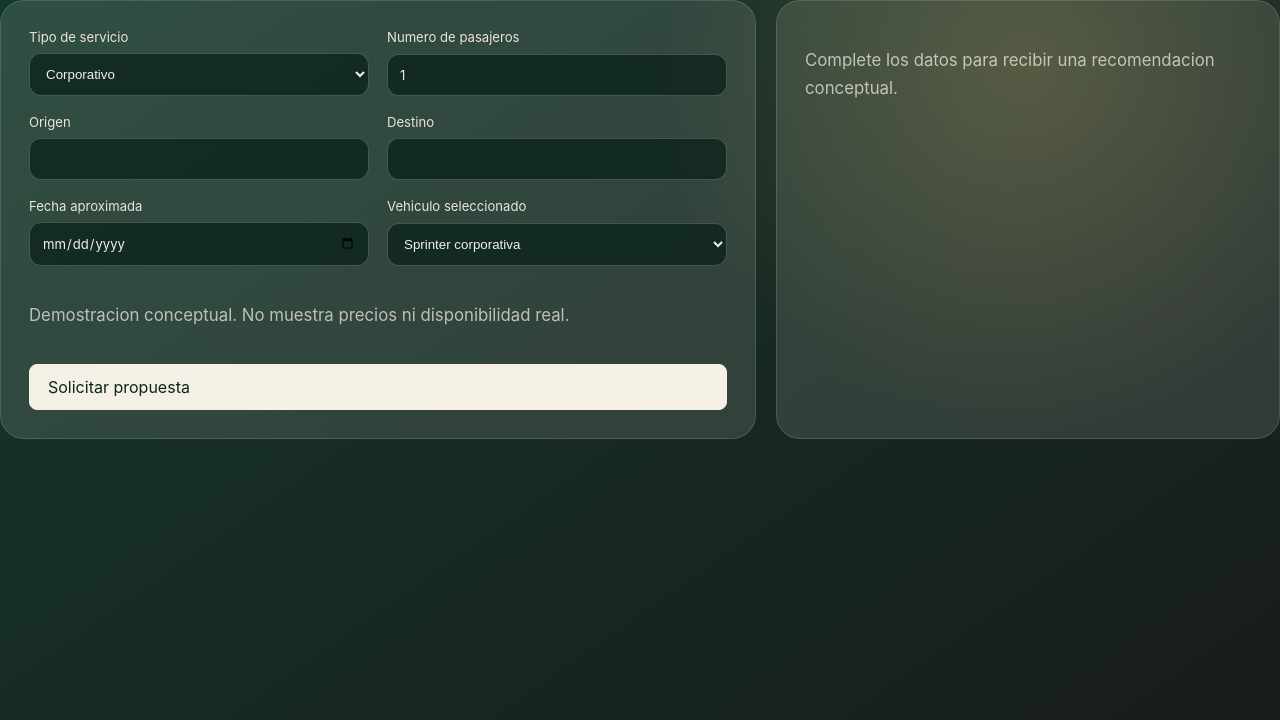
Test: QuoteSection › shows a recommendation and summary without a price
Replace the text in the number field labelled "Numero de pasajeros" with "45" at {"x": 557, "y": 75}, box x1=387 y1=54 x2=727 y2=96
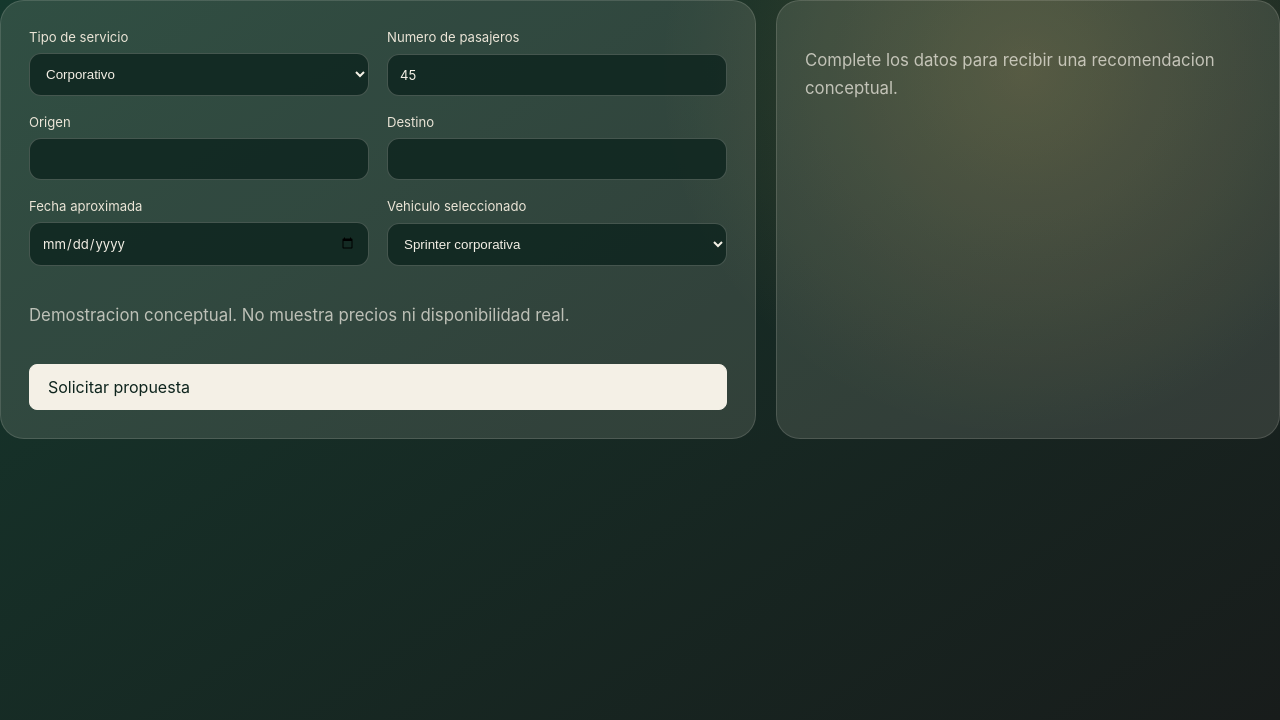
Type "Monteria" into the field labelled "Origen" at {"x": 199, "y": 159}, box x1=29 y1=138 x2=369 y2=180
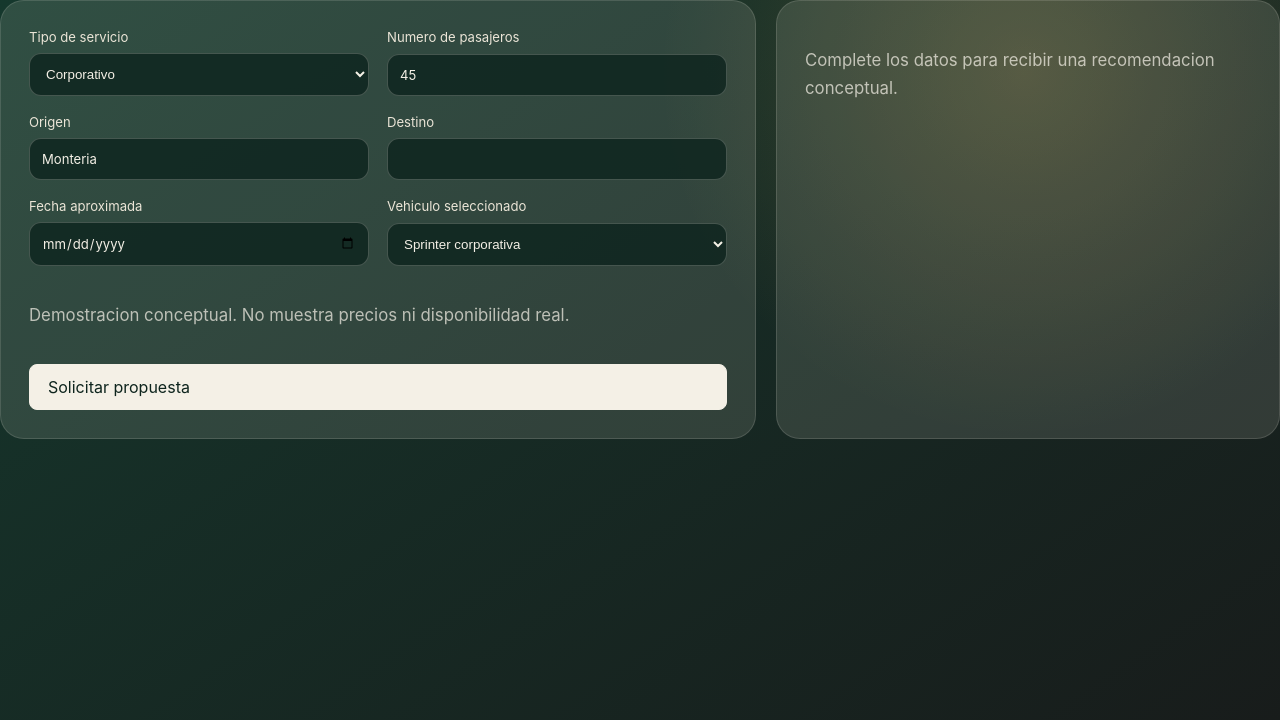
Type "Cartagena" into the field labelled "Destino" at {"x": 557, "y": 159}, box x1=387 y1=138 x2=727 y2=180
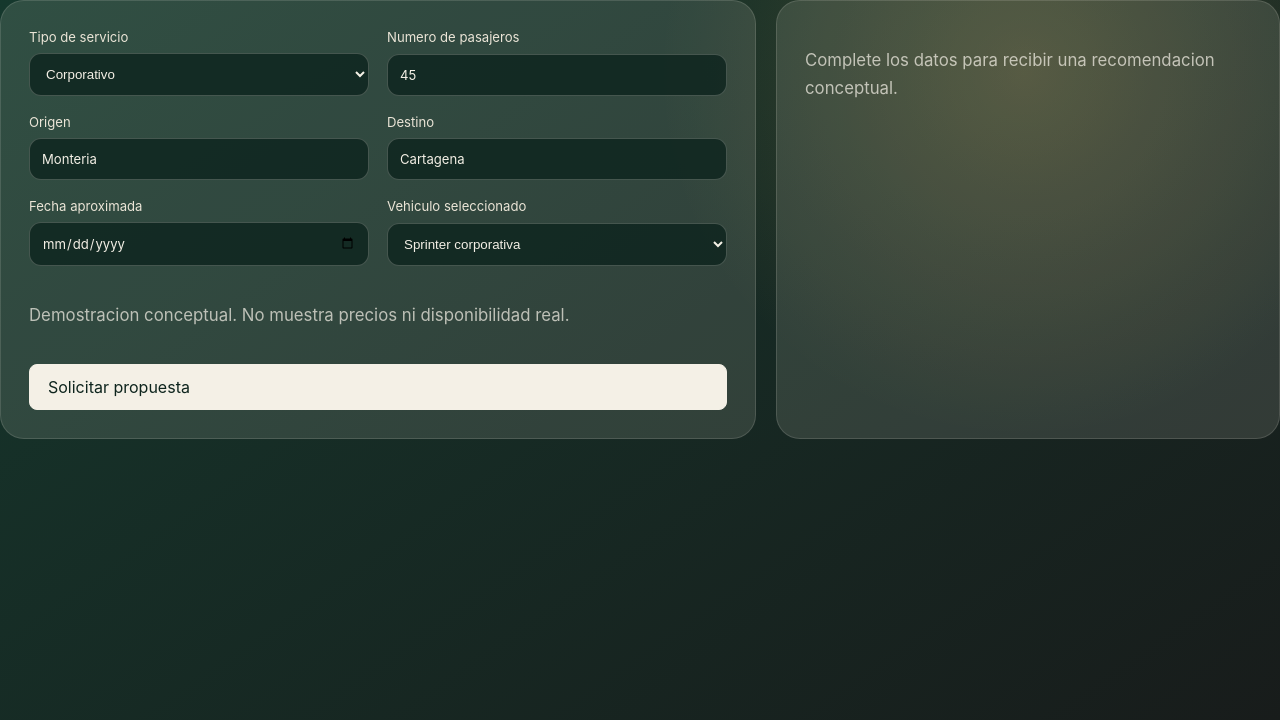
Type "2026-07-10" into the date field labelled "Fecha aproximada" at {"x": 199, "y": 244}, box x1=29 y1=222 x2=369 y2=266
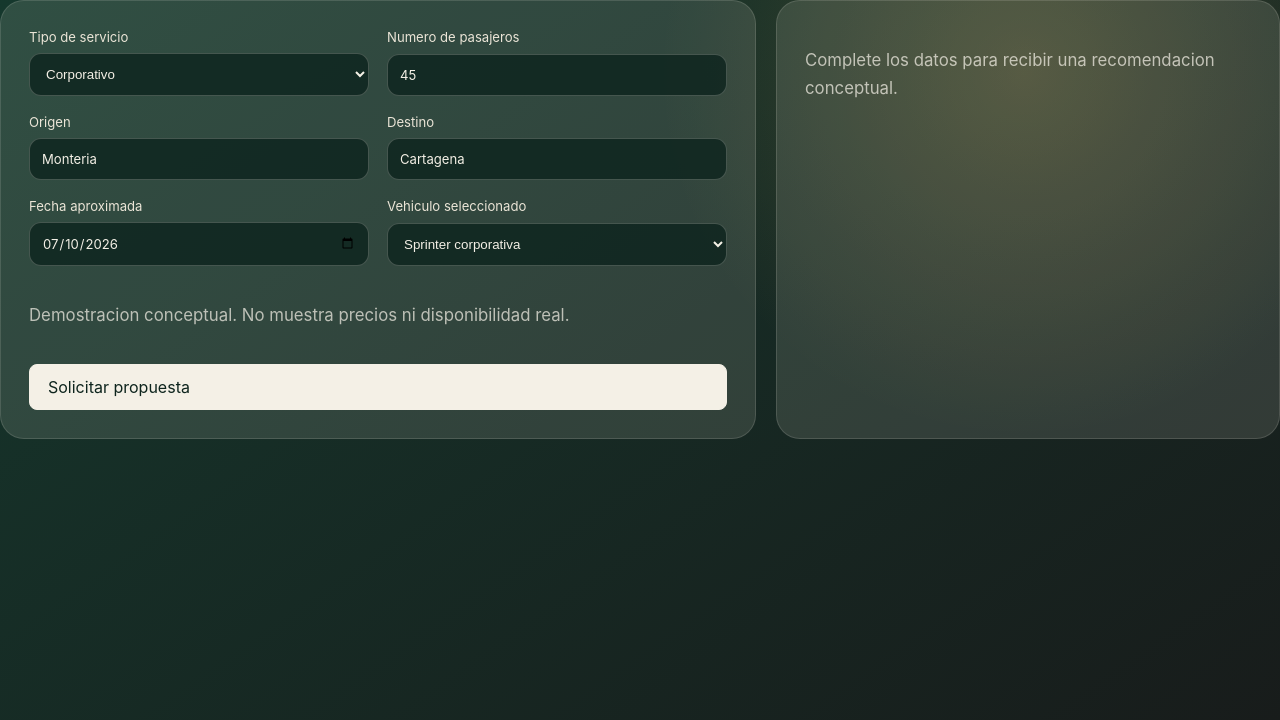
Click the button "Solicitar propuesta" at {"x": 119, "y": 387}, box x1=29 y1=364 x2=727 y2=410
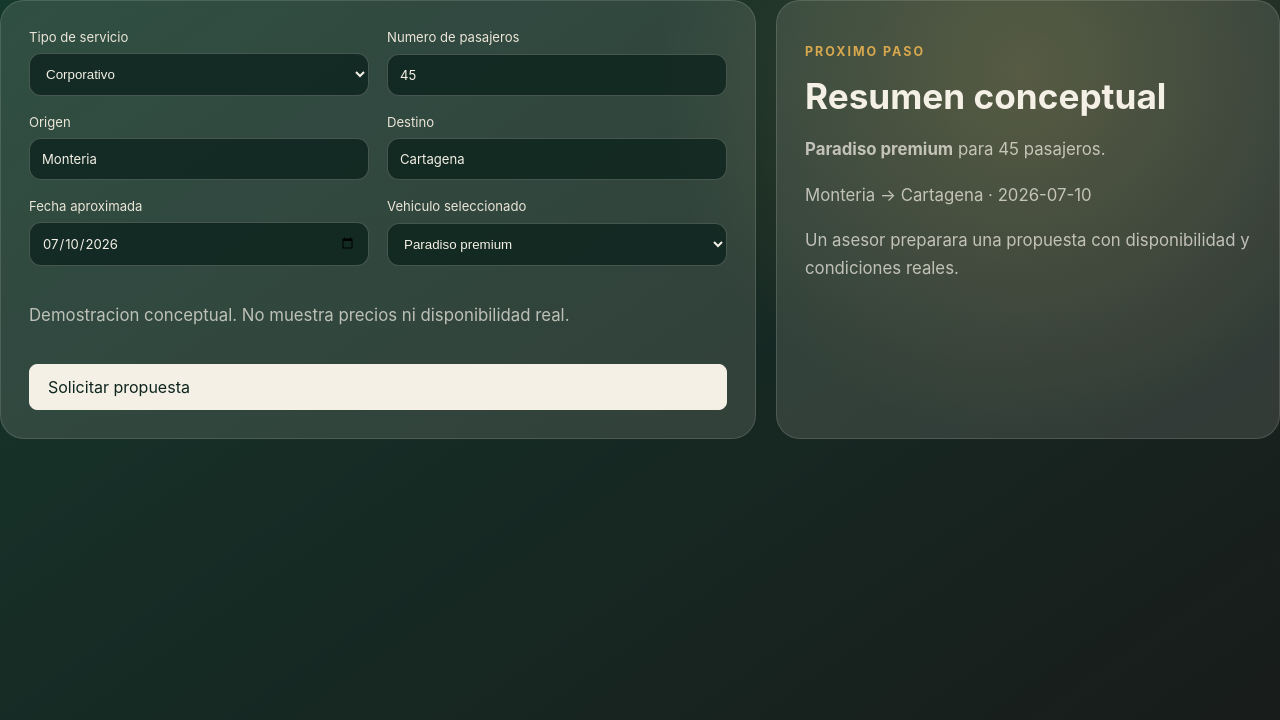
Result: the heading "Resumen conceptual" is shown at x1=805 y1=75 x2=1166 y2=117
Result: the text "Paradiso premium" is shown at x1=805 y1=139 x2=953 y2=159
